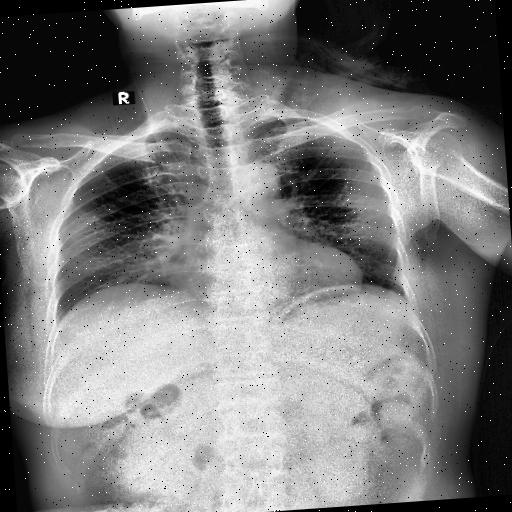0- Aortic enlargement: (230, 159, 286, 211), (230, 160, 284, 208), (237, 160, 281, 190)
3- Cardiomegaly: (164, 244, 364, 310), (174, 248, 365, 312), (169, 242, 362, 304)
